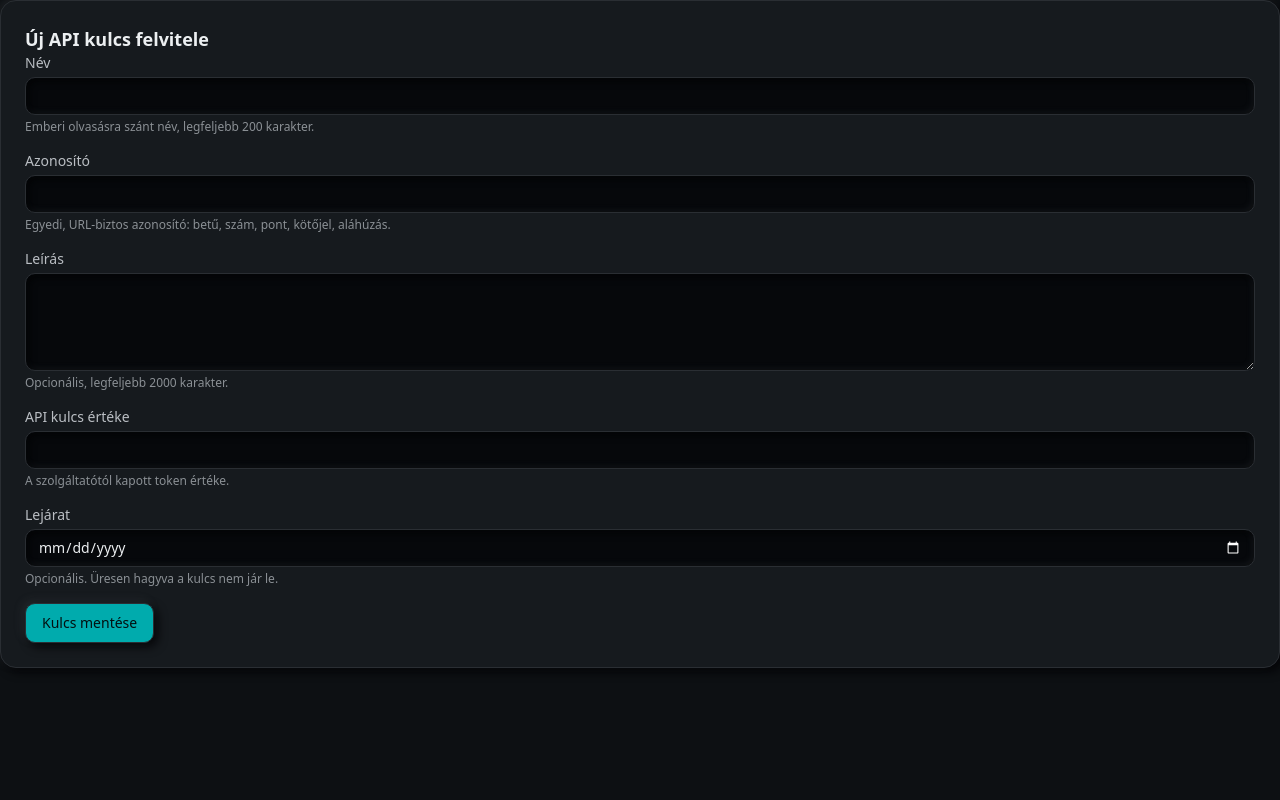
ApiKeyForm › submits the mapped payload, shows the success alert and resets the fields
Type "Vapi staging" into the field labelled "Név".
click(640, 96); type("Vapi staging")  # box x1=25 y1=77 x2=1255 y2=115
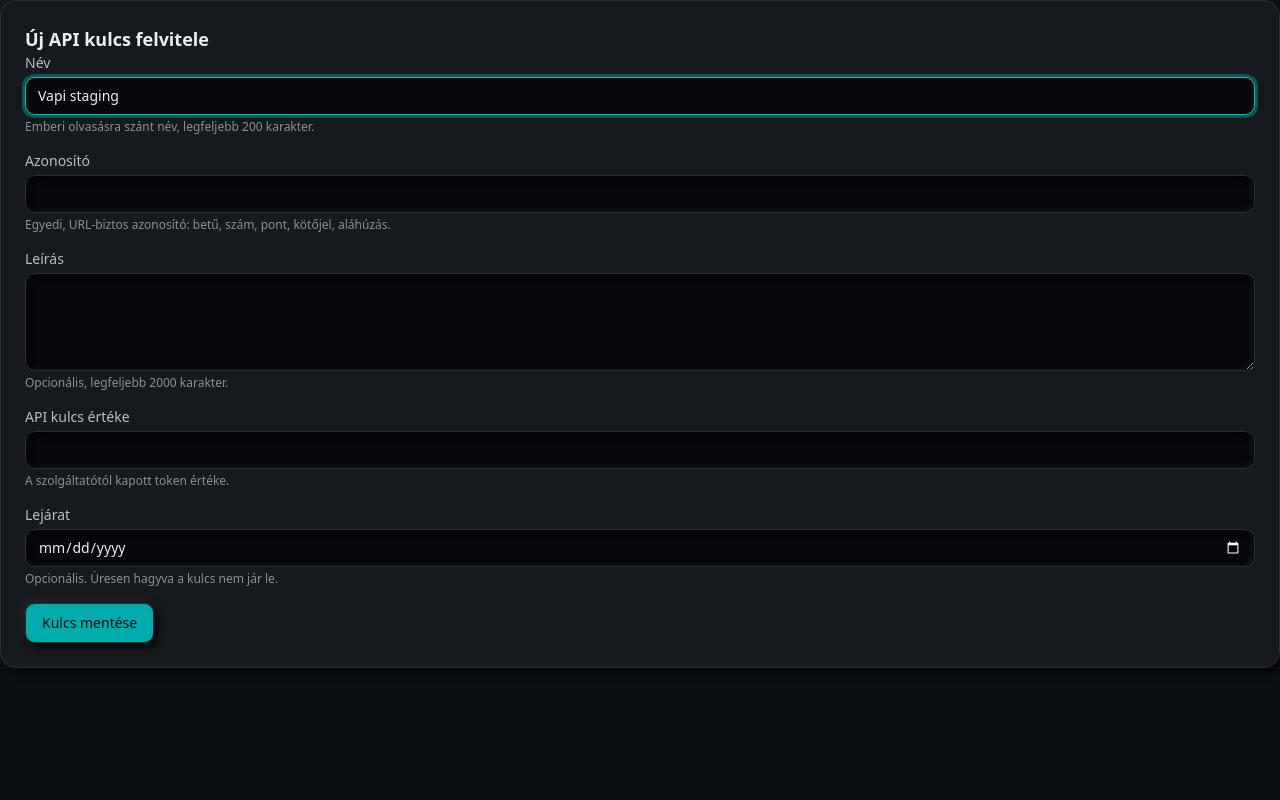
Type "vapi-staging" into the field labelled "Azonosító".
click(640, 194); type("vapi-staging")  # box x1=25 y1=175 x2=1255 y2=213
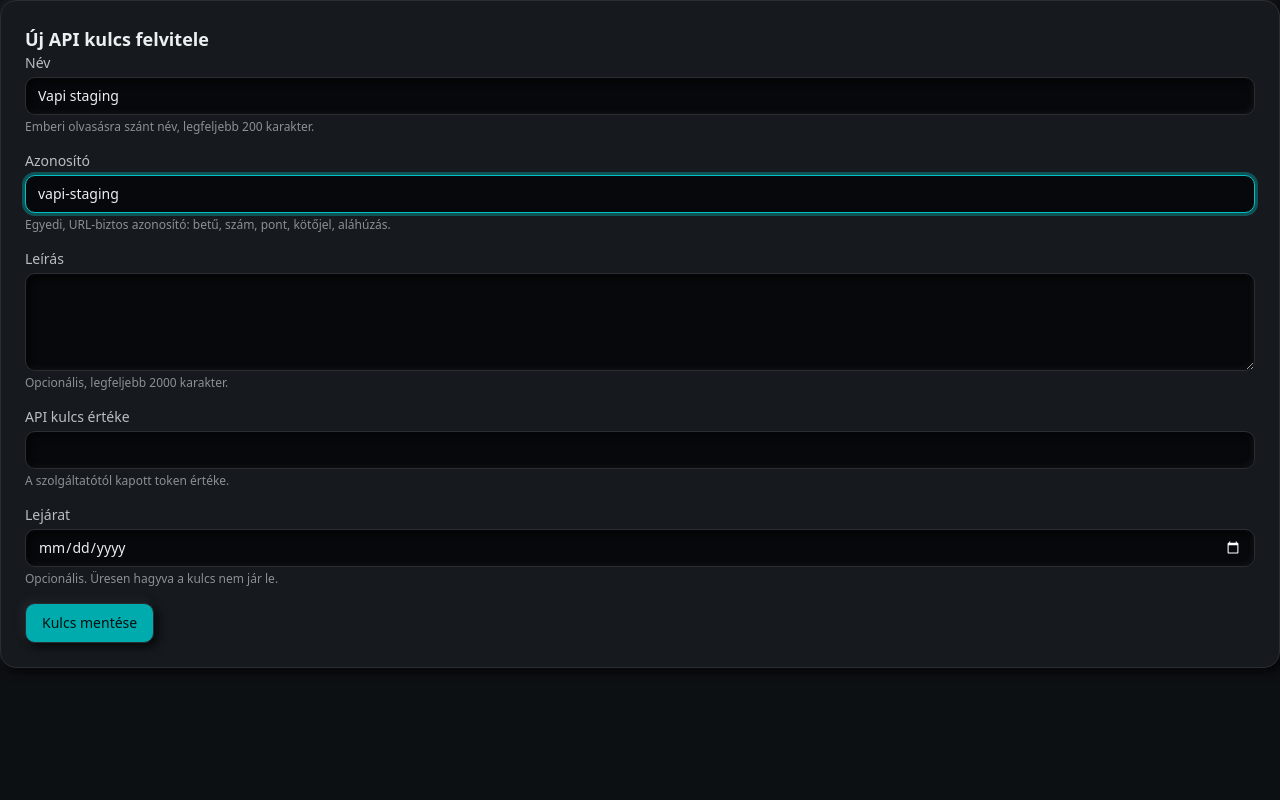
Type "sk-stage-42" into the field labelled "API kulcs értéke".
click(640, 450); type("sk-stage-42")  # box x1=25 y1=431 x2=1255 y2=469
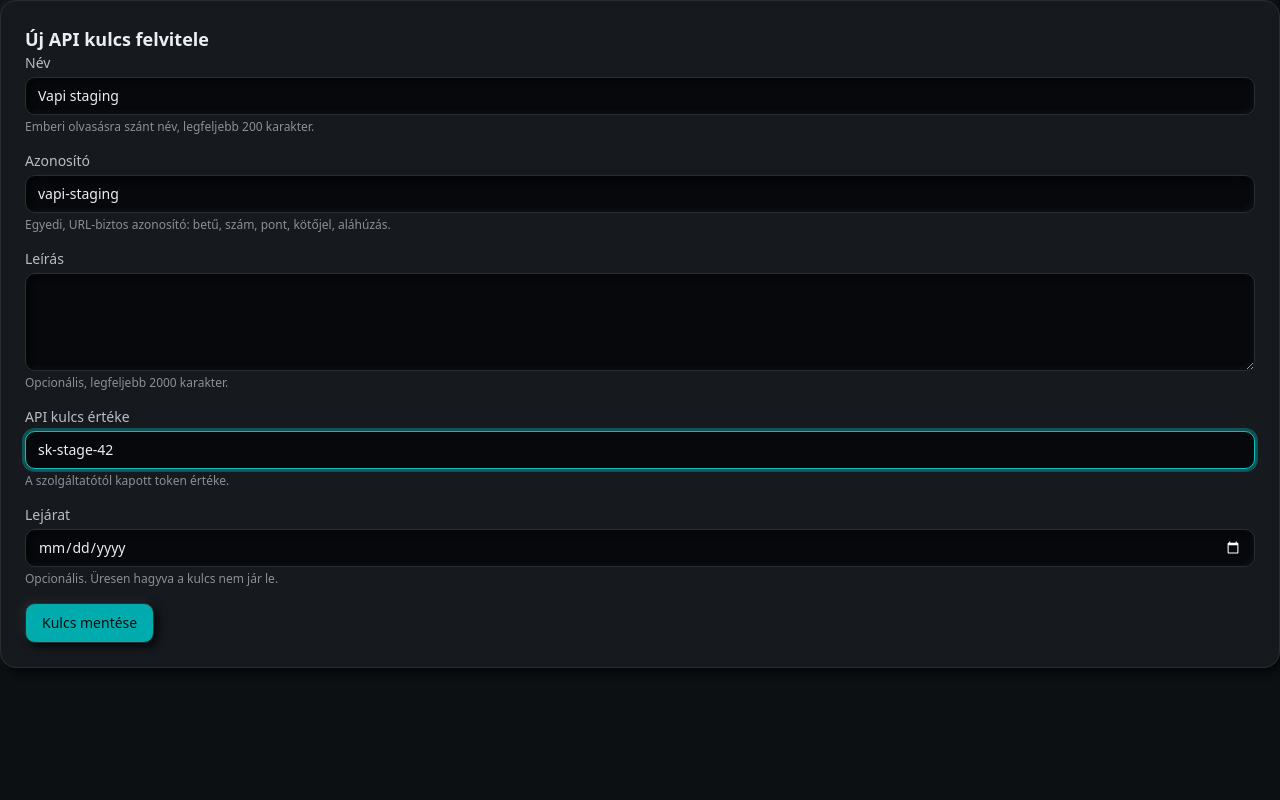
Click the button "Kulcs mentése".
click(90, 623)  # box x1=25 y1=603 x2=154 y2=643
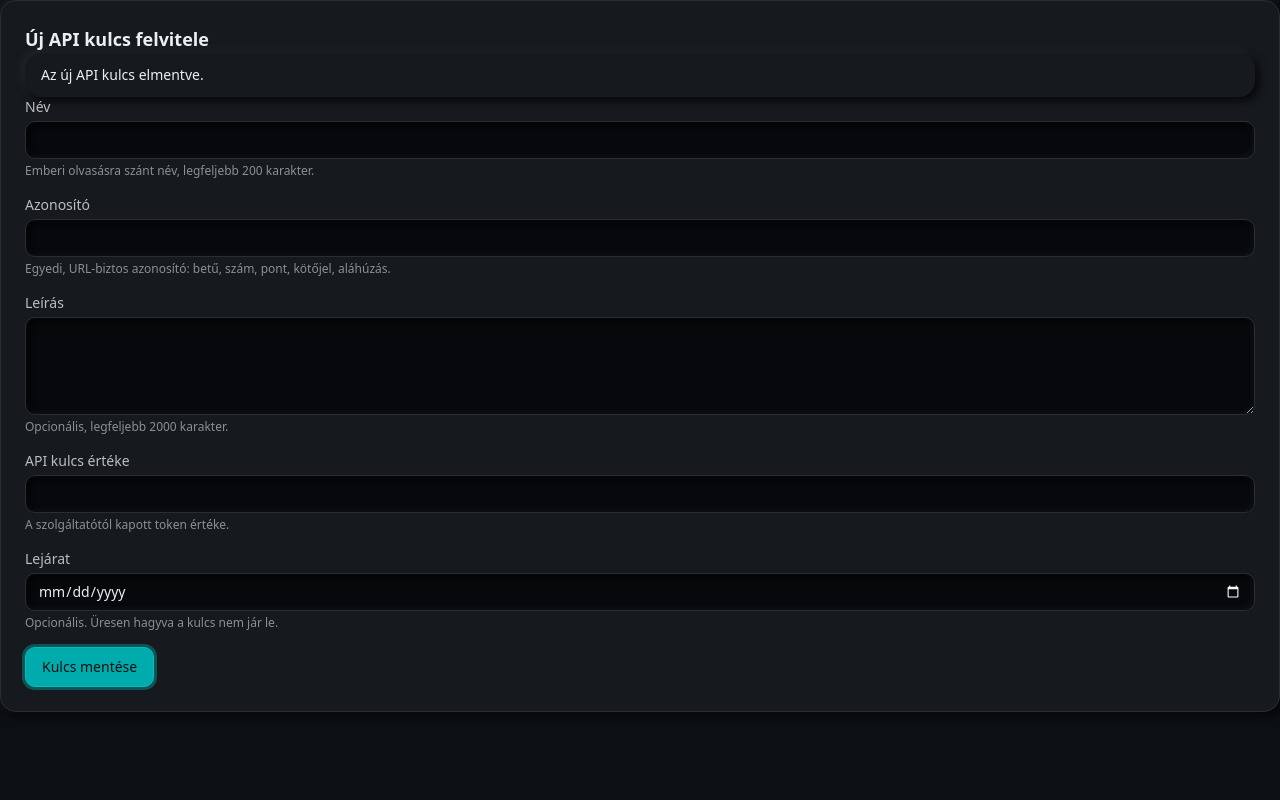
Result: the text "Az új API kulcs elmentve." is shown at x1=41 y1=65 x2=204 y2=84
Result: the field labelled "Név" is empty at x1=25 y1=121 x2=1255 y2=159
Result: the field labelled "Azonosító" is empty at x1=25 y1=219 x2=1255 y2=257
